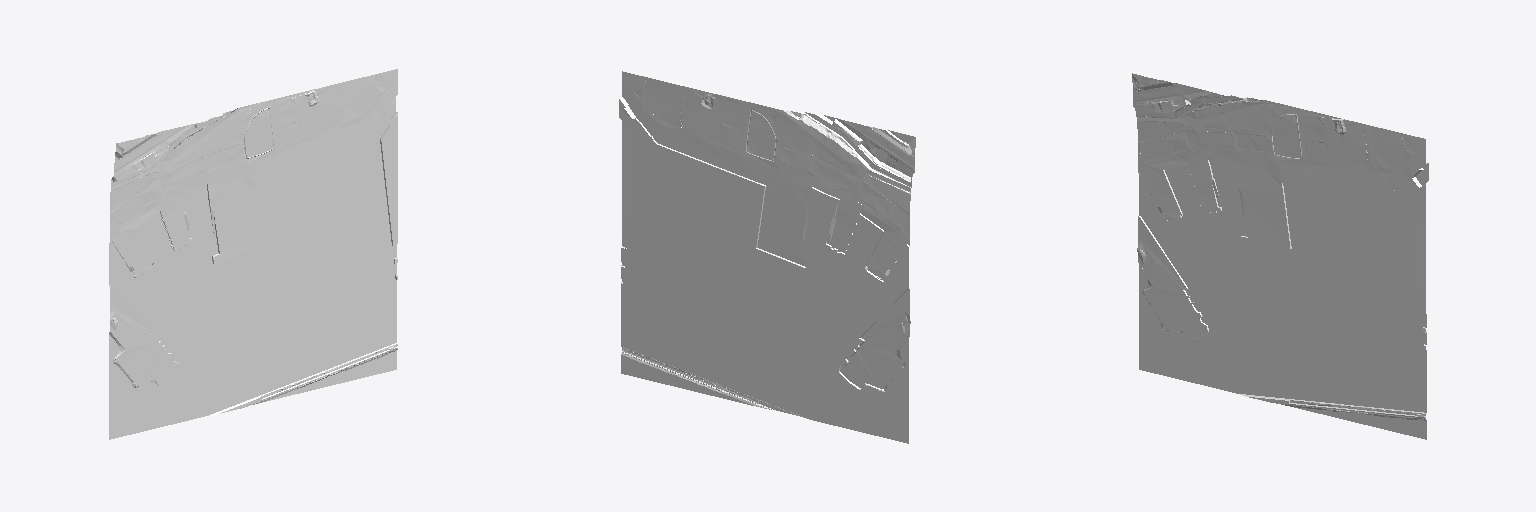
Rendered from 69_103_terrain.obj.
3 views of the same model, side by side, from view 1: azimuth 30°, elevation 25°; view 2: azimuth 150°, elevation 25°; view 3: azimuth 330°, elevation 25° (orthographic).
Parts seen in each view (by area): view 1: 69_103; view 2: 69_103; view 3: 69_103.
Boxes of the visible parts, <box> form: 69_103: <box>109,69,397,439</box>; 69_103: <box>619,71,915,443</box>; 69_103: <box>1132,73,1428,439</box>.
Bounding box in the file's own units: 819 × 819 × 44.88.